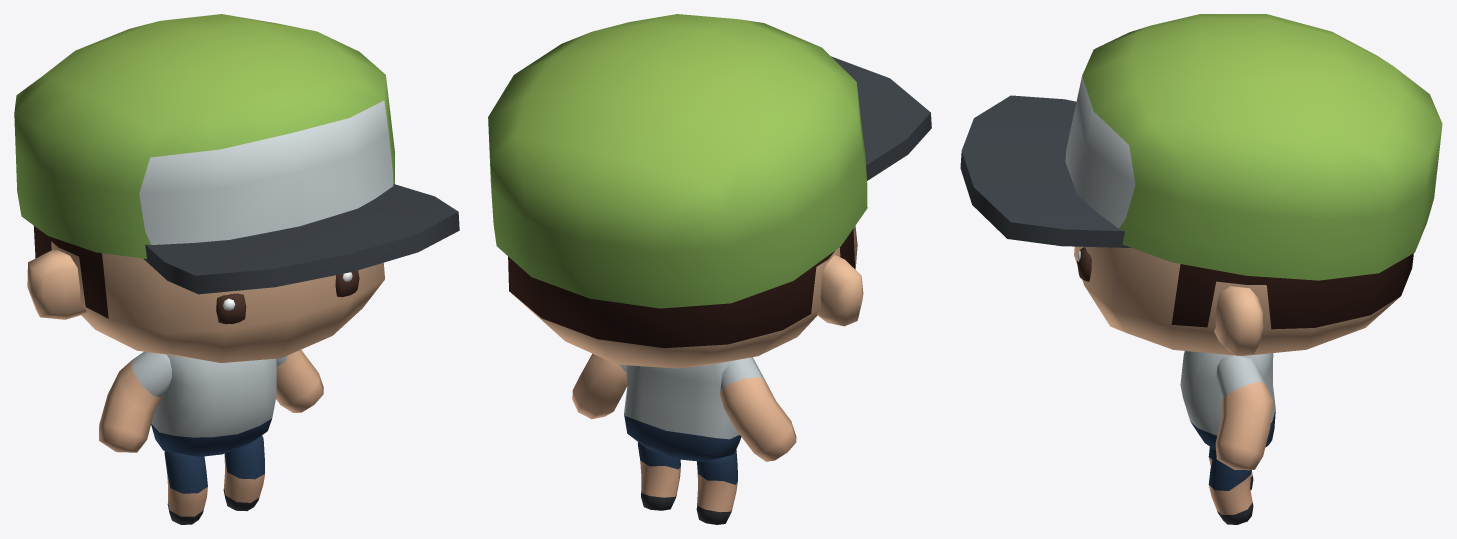
The model's file is idle_0026.obj.
3 renders of one model, left to right at view 1: azimuth 30°, elevation 25°; view 2: azimuth 150°, elevation 25°; view 3: azimuth 270°, elevation 25°, orthographic.
Parts seen in each view (by area): view 1: Object_41, Object_42, Object_36, Object_44, Object_38; view 2: Object_41, Object_44, Object_36, Object_42; view 3: Object_41, Object_36, Object_42, Object_44.
Boxes of the visible parts, x1,y1,x2,y2 form: Object_41: [14, 14, 394, 258]; Object_42: [139, 100, 459, 294]; Object_36: [27, 226, 384, 362]; Object_44: [99, 350, 323, 524]; Object_38: [216, 270, 359, 324]; Object_41: [488, 14, 867, 308]; Object_44: [572, 353, 796, 524]; Object_36: [508, 226, 863, 368]; Object_42: [831, 56, 931, 180]; Object_41: [1082, 14, 1442, 280]; Object_36: [1074, 246, 1413, 355]; Object_42: [960, 76, 1135, 247]; Object_44: [1180, 351, 1275, 524].
Bounding box in the file's own units: 0.9691 × 1.22 × 1.14.
